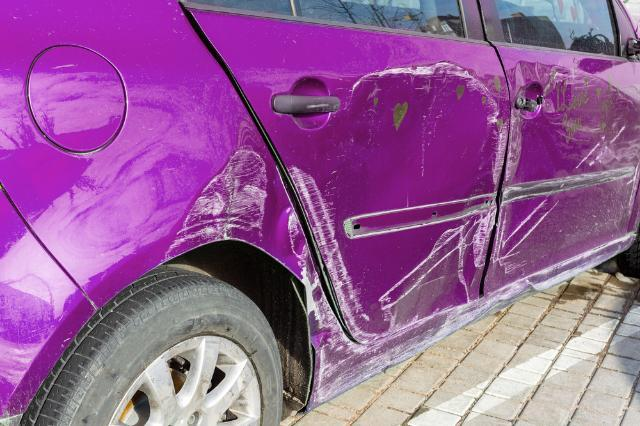dent: (309, 65, 495, 332)
scratch: (303, 242, 626, 404), (166, 125, 311, 276), (497, 125, 631, 280), (455, 119, 511, 303)
